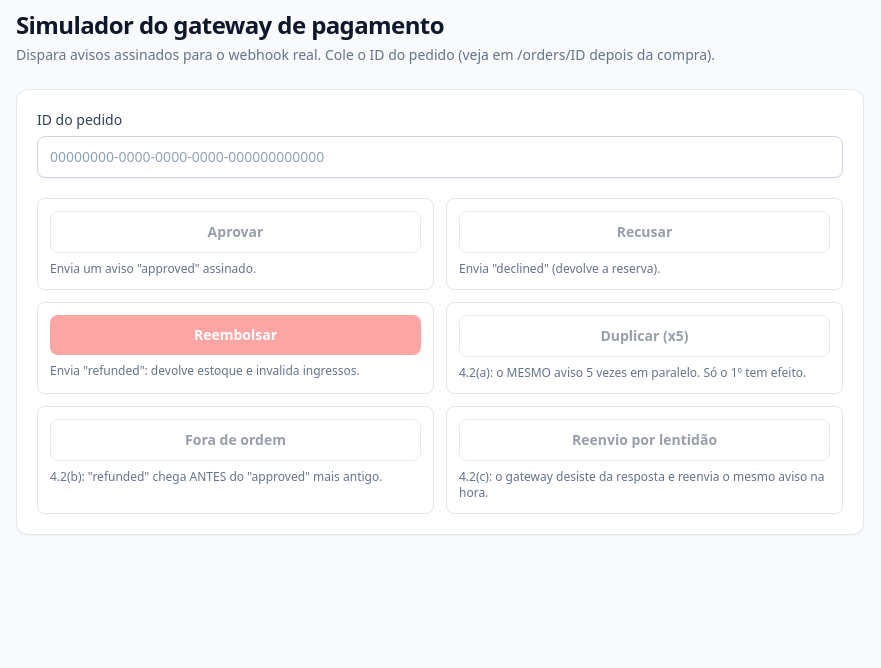
Test: simulador do gateway › dispara a ação escolhida com o token do admin e mostra o resultado
Check: the button "Aprovar" is disabled, box [50, 211, 421, 253]
In the field labelled "ID do pedido": (440, 157) [37, 136, 843, 178], type "a2dde811-9f0d-4fc4-8fd6-8fec92299b70"
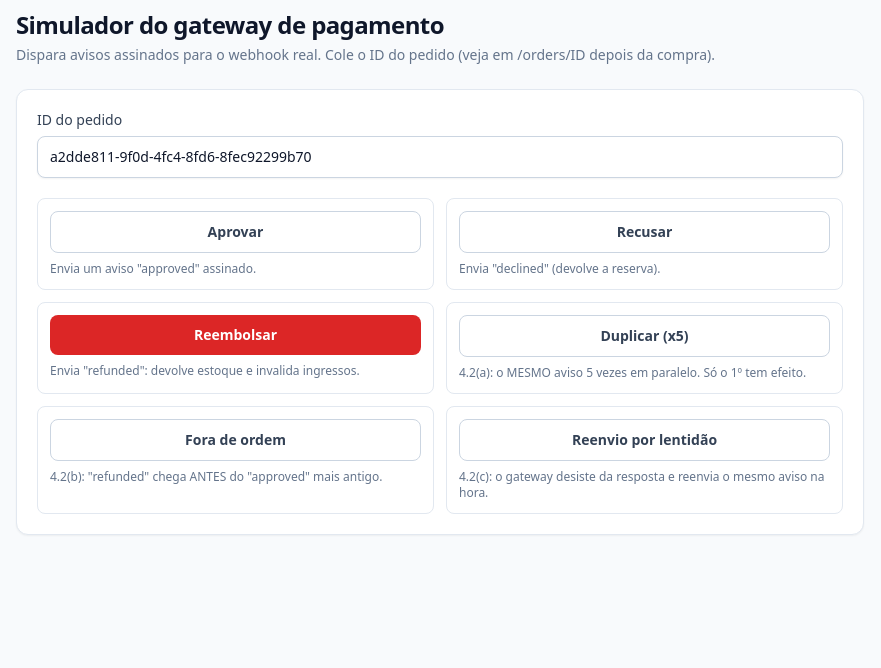
Click the button "Reenvio por lentidão": (644, 440) [459, 419, 830, 461]
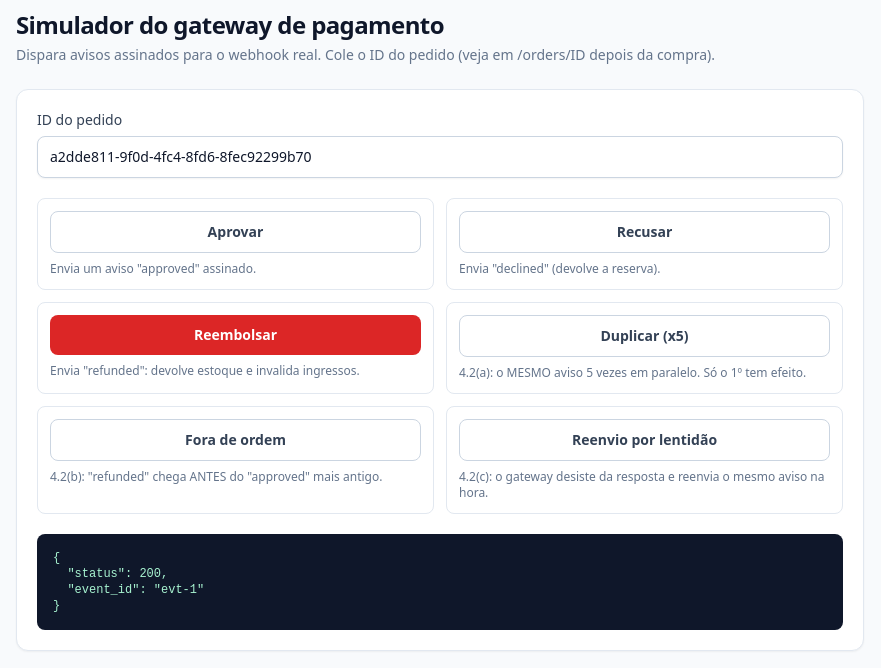
Check: the text named "resultado" shows "evt-1", box [53, 551, 204, 613]
